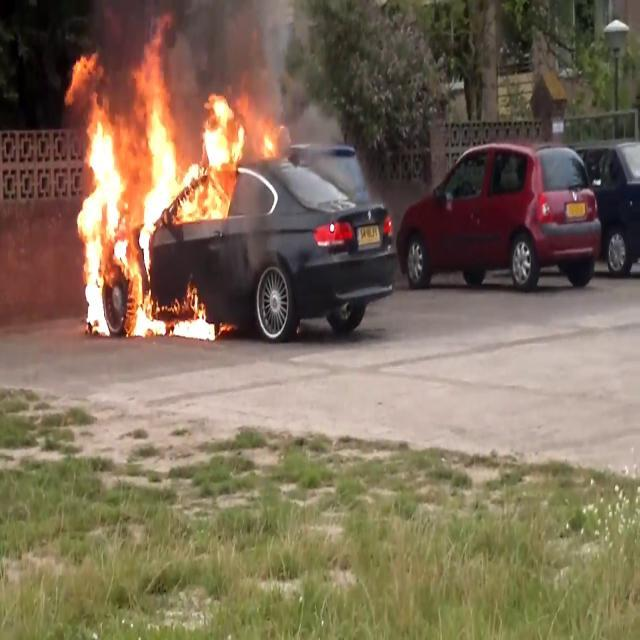Fire: (62, 28, 276, 339)
